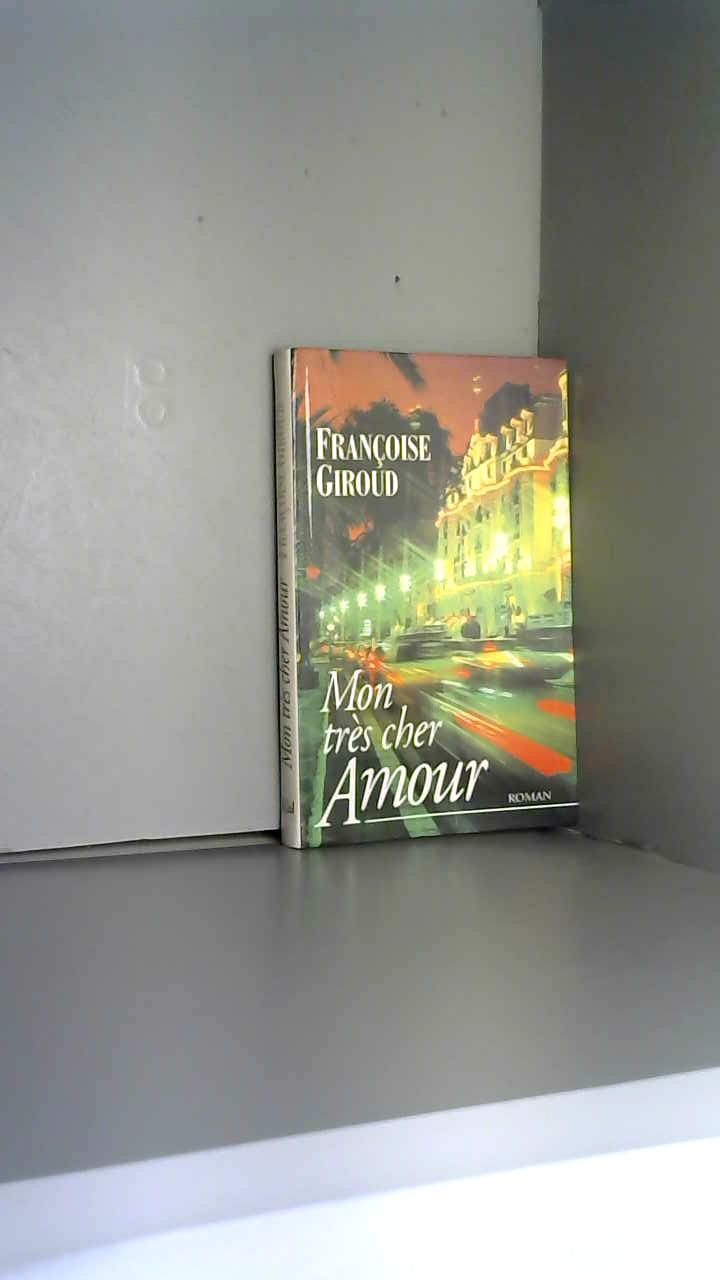book: (225, 303, 627, 898)
